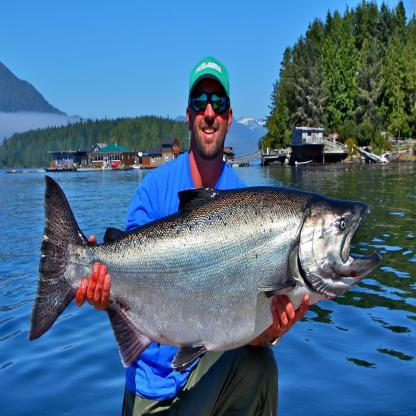fish: (26, 174, 382, 368)
